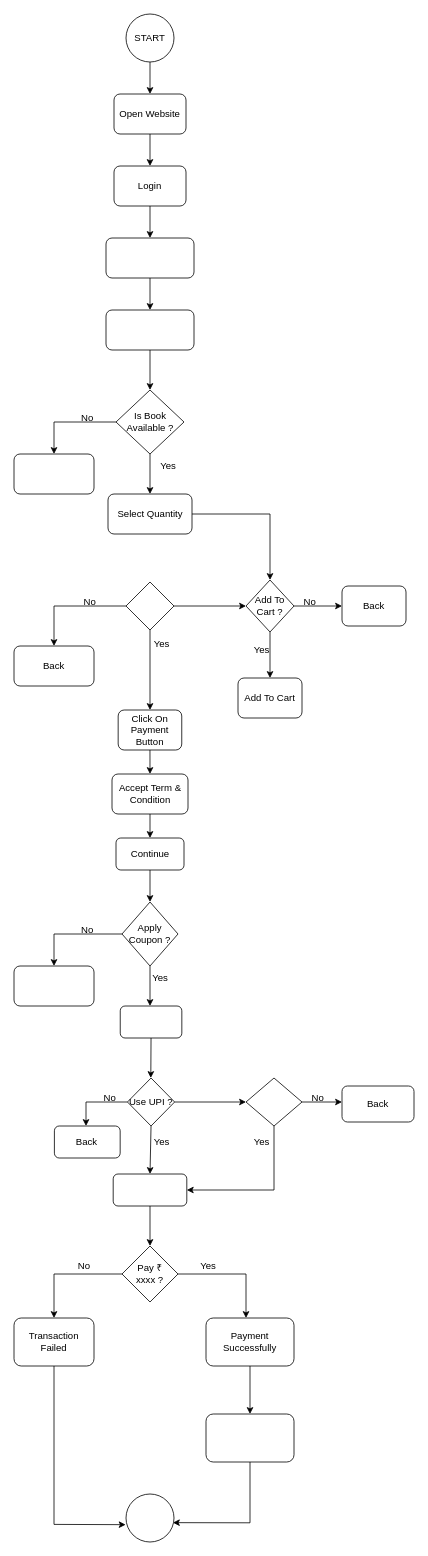
Some shapes in this 428 by 1556 pixel diagram are drawn without their labels. The box of each missing label's shape, as (x1, y1, x2, y2) in pixels:
Apply: (119, 1005, 182, 1038)
Book Is Out Of Stock: (13, 453, 94, 494)
Buy Now ?: (125, 581, 174, 630)
Click To Payment: (112, 1173, 187, 1206)
END: (125, 1493, 174, 1542)
No Coupon Available: (13, 965, 94, 1006)
Search Book You Want To Buy: (105, 237, 194, 278)
Select Categories: (105, 309, 194, 350)
Use G-Pay ?: (245, 1077, 302, 1126)
Your Book Order Has Been Successfully: (205, 1413, 294, 1462)
